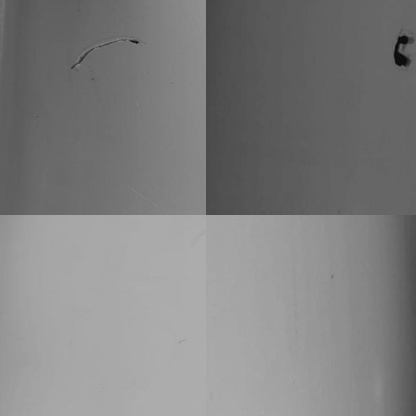fengxi: (69, 33, 143, 74)
kongdong: (388, 32, 412, 67)
